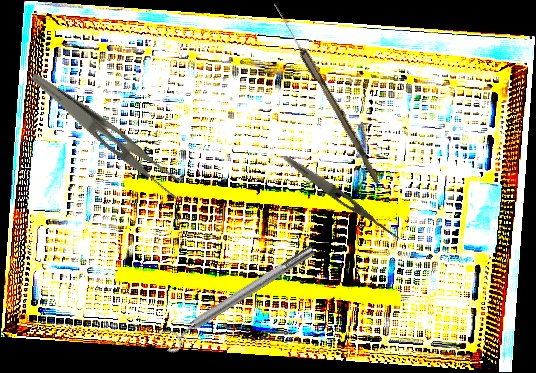Dressing Forceps: (18, 71, 193, 204), (280, 152, 405, 244)
Fixation Ring: (156, 239, 321, 356)
Surgical Spoon: (269, 1, 385, 185)
